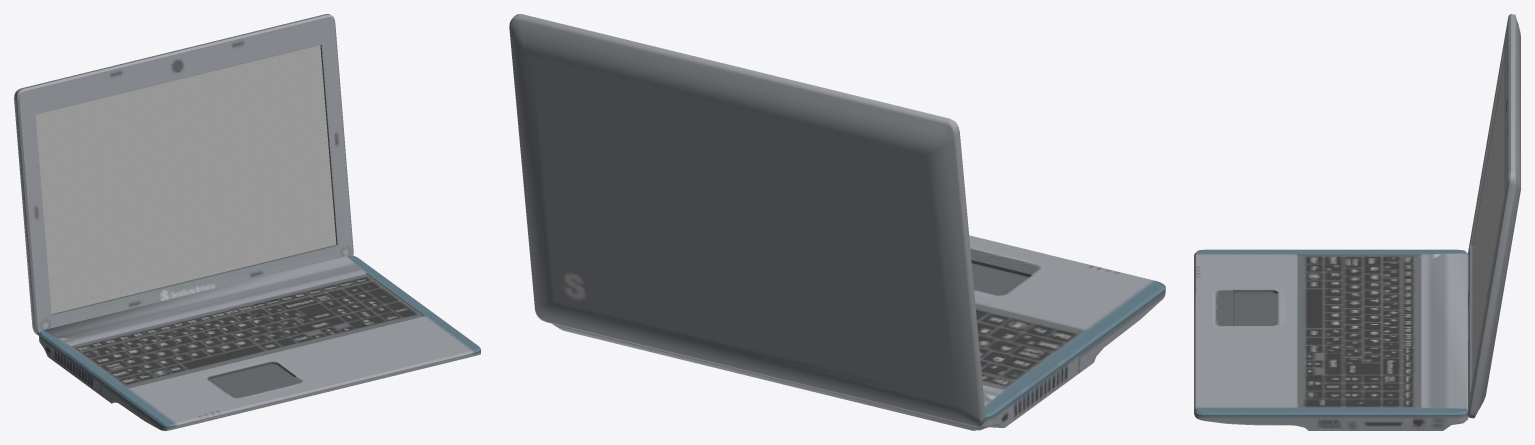
Rendered from propLaptop.fbx.
3 views of the same model, side by side, from view 1: azimuth 30°, elevation 25°; view 2: azimuth 150°, elevation 25°; view 3: azimuth 270°, elevation 25° (orthographic). The views are drawn at different scales.
Parts seen in each view (by area): view 1: propLaptop; view 2: propLaptop; view 3: propLaptop.
Part boxes in pixels (x1,y1,x2,y2): propLaptop: (14, 14, 480, 430); propLaptop: (509, 14, 1165, 430); propLaptop: (1194, 14, 1520, 430).
Size of the model in its own units: 44.33 by 32.23 by 37.27.
Materials: 2 (2 with a texture image).
